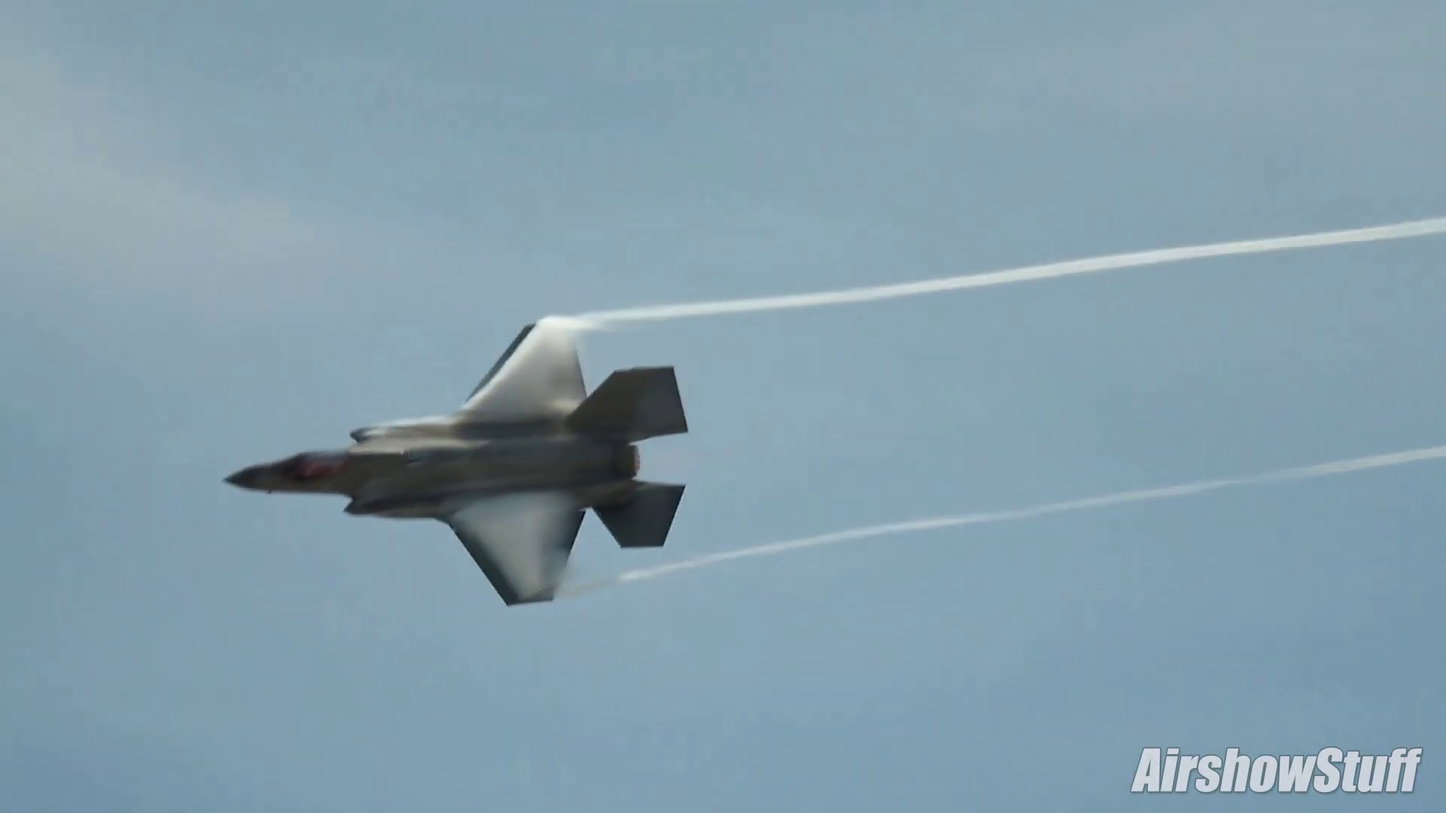F35: (220, 316, 694, 609)
